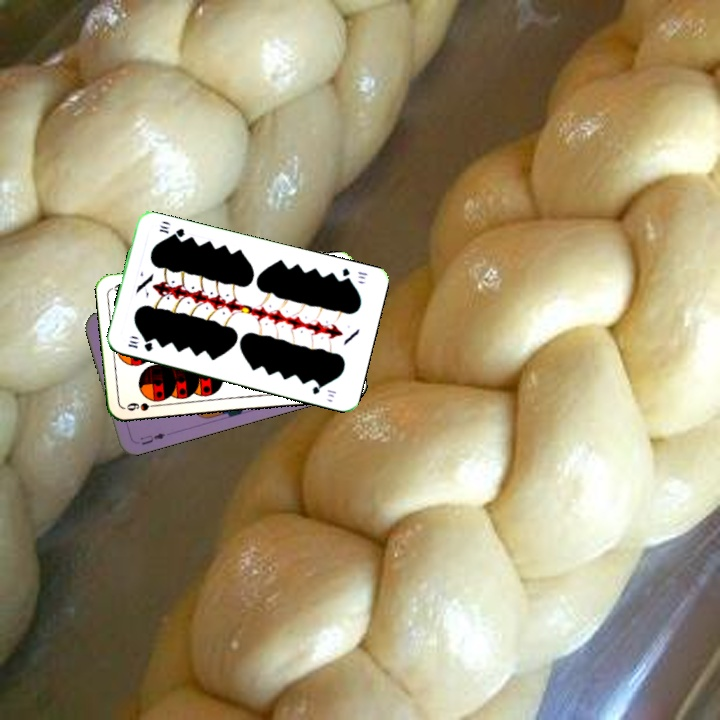EU: (136, 429, 168, 448)
G10: (338, 264, 370, 285), (124, 337, 155, 354)
S9: (122, 398, 162, 413)
